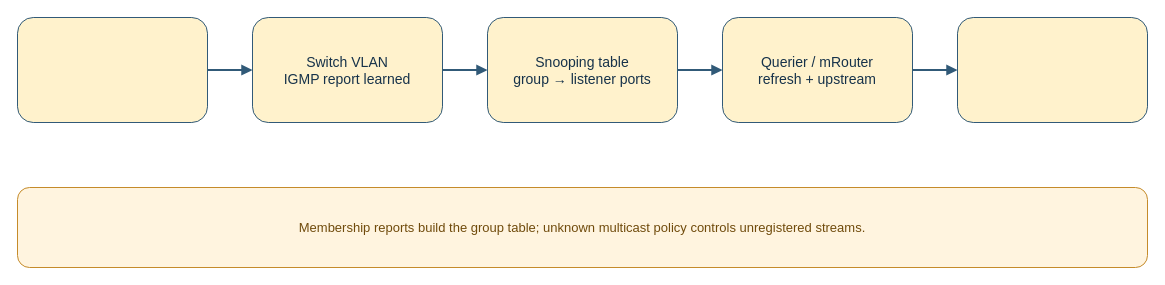
The diagram is 1165 pixels wide and 285 high, and some of its shapes have lost their labels. The shapes that lost their labels are listed below. From the top down, each one's centre as x and y in pixels, then its label:
At (x=112, y=69): "Multicast source 239.x.x.x stream".
At (x=1052, y=69): "Receivers only joined ports".
